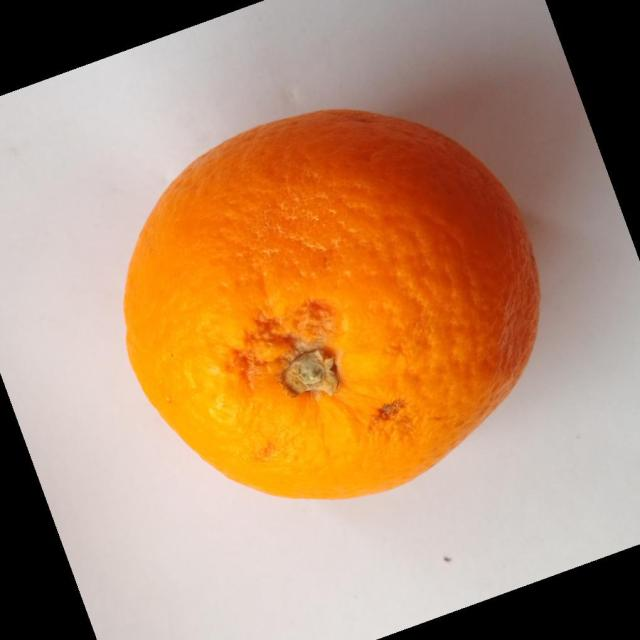fresh orange: (123, 107, 542, 500)
